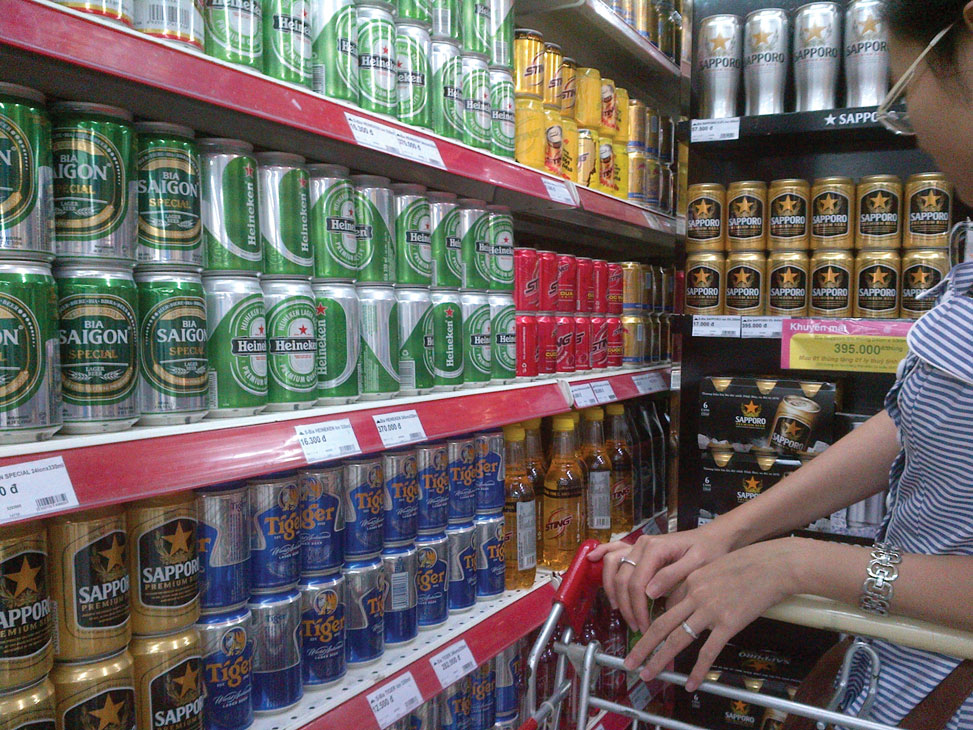biasaigon: (52, 151, 106, 182), (56, 328, 128, 347), (135, 179, 197, 199), (154, 327, 209, 347)
heineken: (361, 39, 395, 93), (238, 179, 260, 249), (293, 192, 311, 253), (315, 317, 332, 376), (440, 319, 458, 368), (495, 231, 514, 272), (361, 54, 394, 74), (273, 339, 318, 352)
sapporo: (1, 556, 50, 627), (150, 663, 204, 727), (78, 543, 132, 602), (141, 560, 199, 581), (794, 45, 838, 63), (770, 430, 807, 451), (838, 111, 886, 127), (700, 56, 741, 74), (744, 52, 786, 68), (844, 42, 889, 56), (722, 709, 757, 727), (856, 285, 897, 300), (810, 283, 850, 298), (908, 209, 950, 223), (726, 213, 763, 227), (732, 413, 770, 426), (768, 285, 805, 298), (859, 211, 899, 223), (769, 215, 808, 227), (727, 285, 760, 299), (810, 213, 848, 224), (683, 285, 720, 296), (686, 219, 722, 227)
sting: (542, 513, 574, 535)
tiger: (263, 487, 300, 539), (207, 659, 256, 686), (416, 548, 444, 592), (304, 616, 346, 642), (311, 588, 339, 616), (298, 476, 322, 503)
